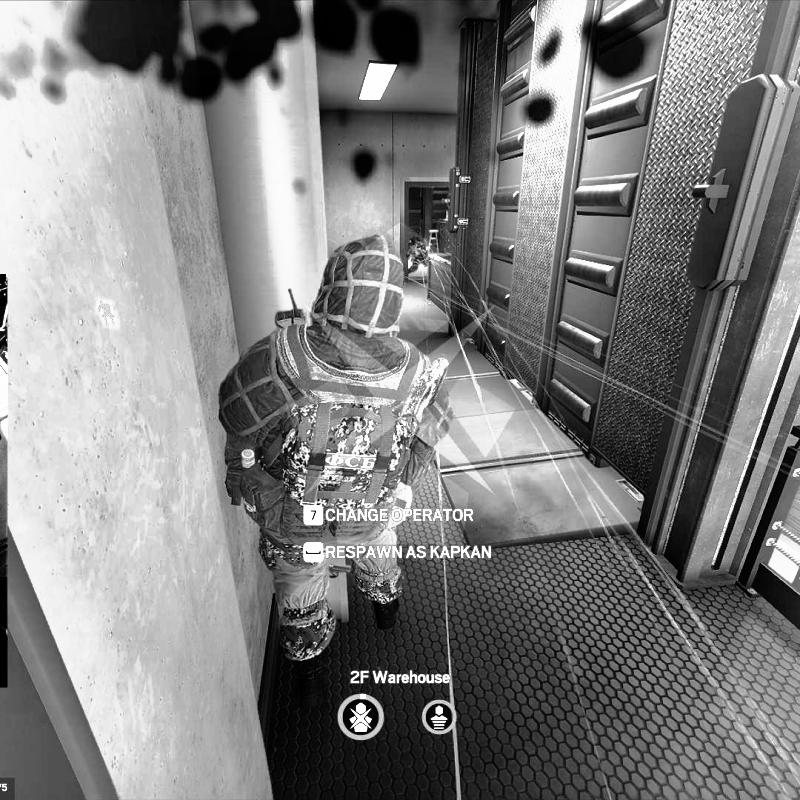Character: (214, 231, 456, 716), (405, 235, 432, 280)
Head: (310, 233, 404, 339), (416, 236, 423, 244)
